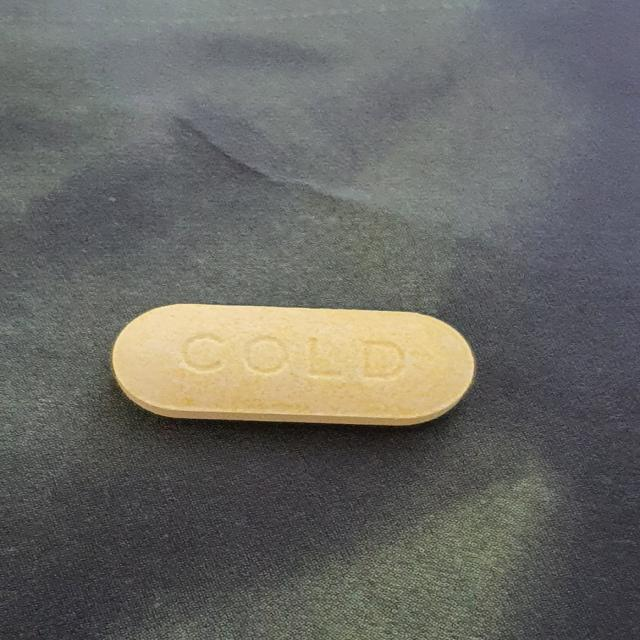pill: (87, 276, 516, 462)
